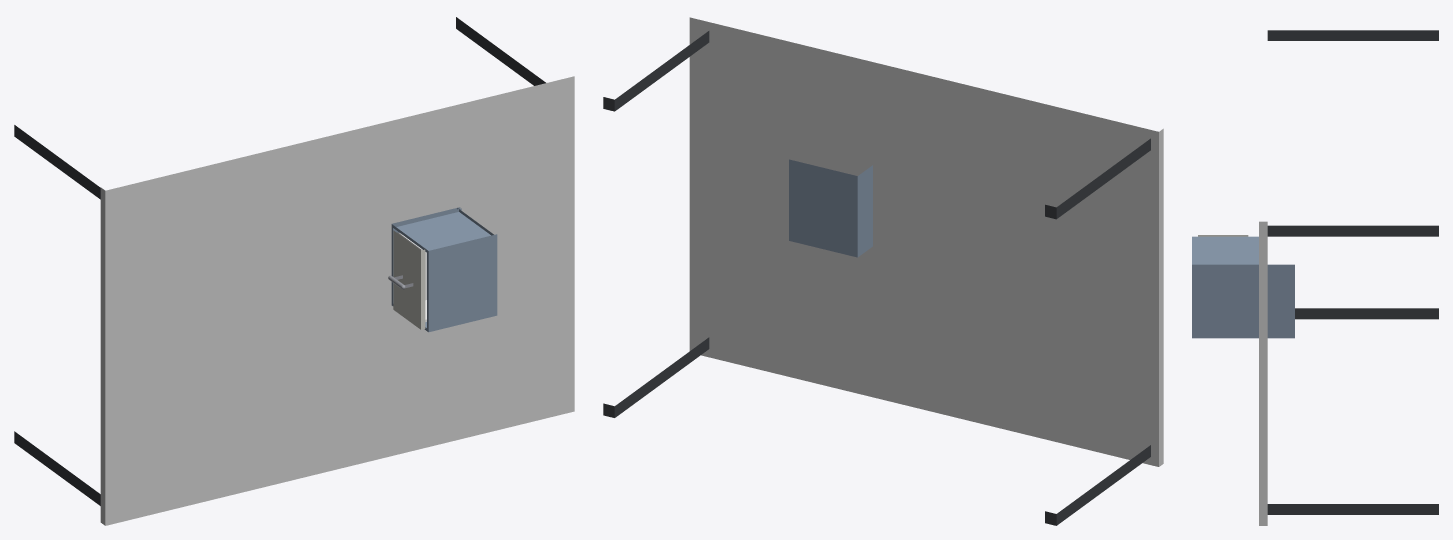
The picture shows the model from 3 angles, left to right: view 1: azimuth 30°, elevation 25°; view 2: azimuth 150°, elevation 25°; view 3: azimuth 270°, elevation 25°; orthographic projection. The views are drawn at different scales.
Parts seen in each view (by area): view 1: s0, s1, s2; view 2: s0, s1; view 3: s0, s1.
Boxes of the visible parts, box(x1,y1,x2,y2) form: s0: box(14, 17, 574, 525); s1: box(391, 207, 497, 332); s2: box(388, 230, 426, 329); s0: box(603, 17, 1163, 525); s1: box(789, 159, 872, 257); s0: box(1259, 30, 1438, 525); s1: box(1192, 236, 1294, 338).
Size of the model in its own units: 2.05 by 1.4 by 1.03.
